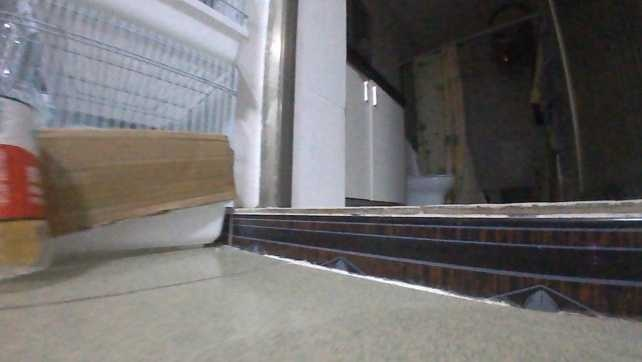door_sill: (226, 198, 640, 317)
toilet: (405, 171, 454, 203)
